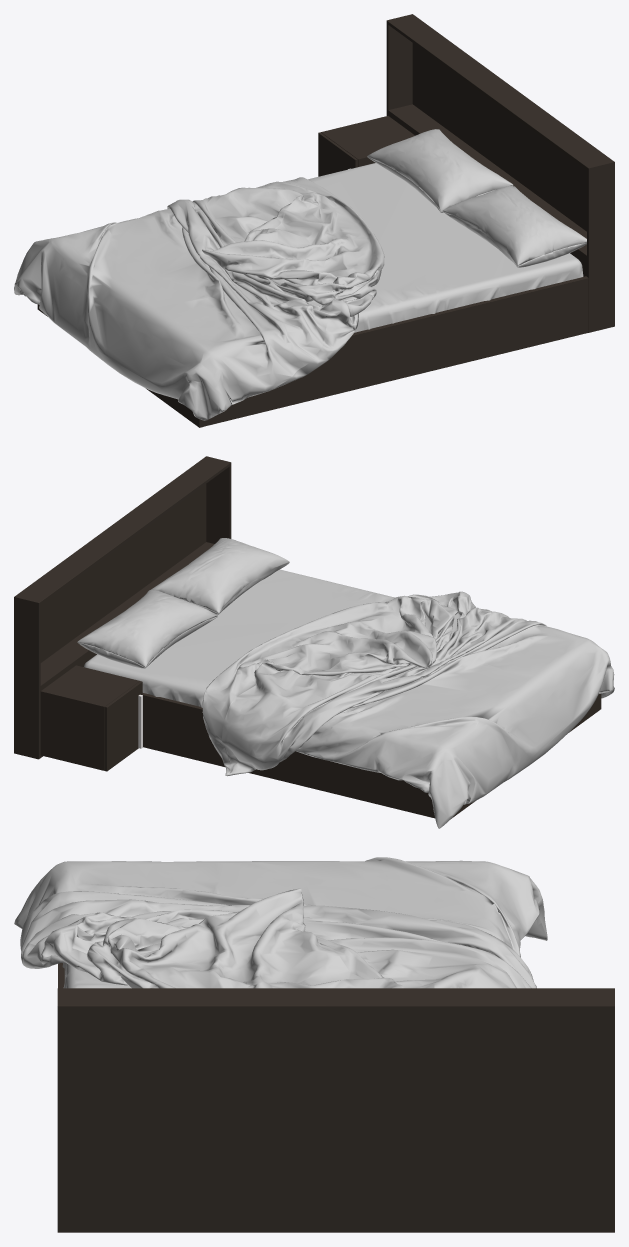
The model's file is messy bed 1.glb.
3 renders of one model, top to bottom at view 1: azimuth 30°, elevation 25°; view 2: azimuth 150°, elevation 25°; view 3: azimuth 270°, elevation 25°, orthographic. The views are drawn at different scales.
Parts seen in each view (by area): view 1: Object_3, Object_7; view 2: Object_3, Object_7; view 3: Object_7, Object_3.
Part boxes in pixels (x1,y1,x2,y2): Object_3: (14, 129, 586, 420); Object_7: (37, 14, 614, 427); Object_3: (77, 538, 614, 828); Object_7: (14, 456, 601, 819); Object_7: (57, 963, 614, 1232); Object_3: (14, 857, 547, 988).
Size of the model in its own units: 250 by 89.84 by 216.
Materials: 3 (1 with a texture image).
